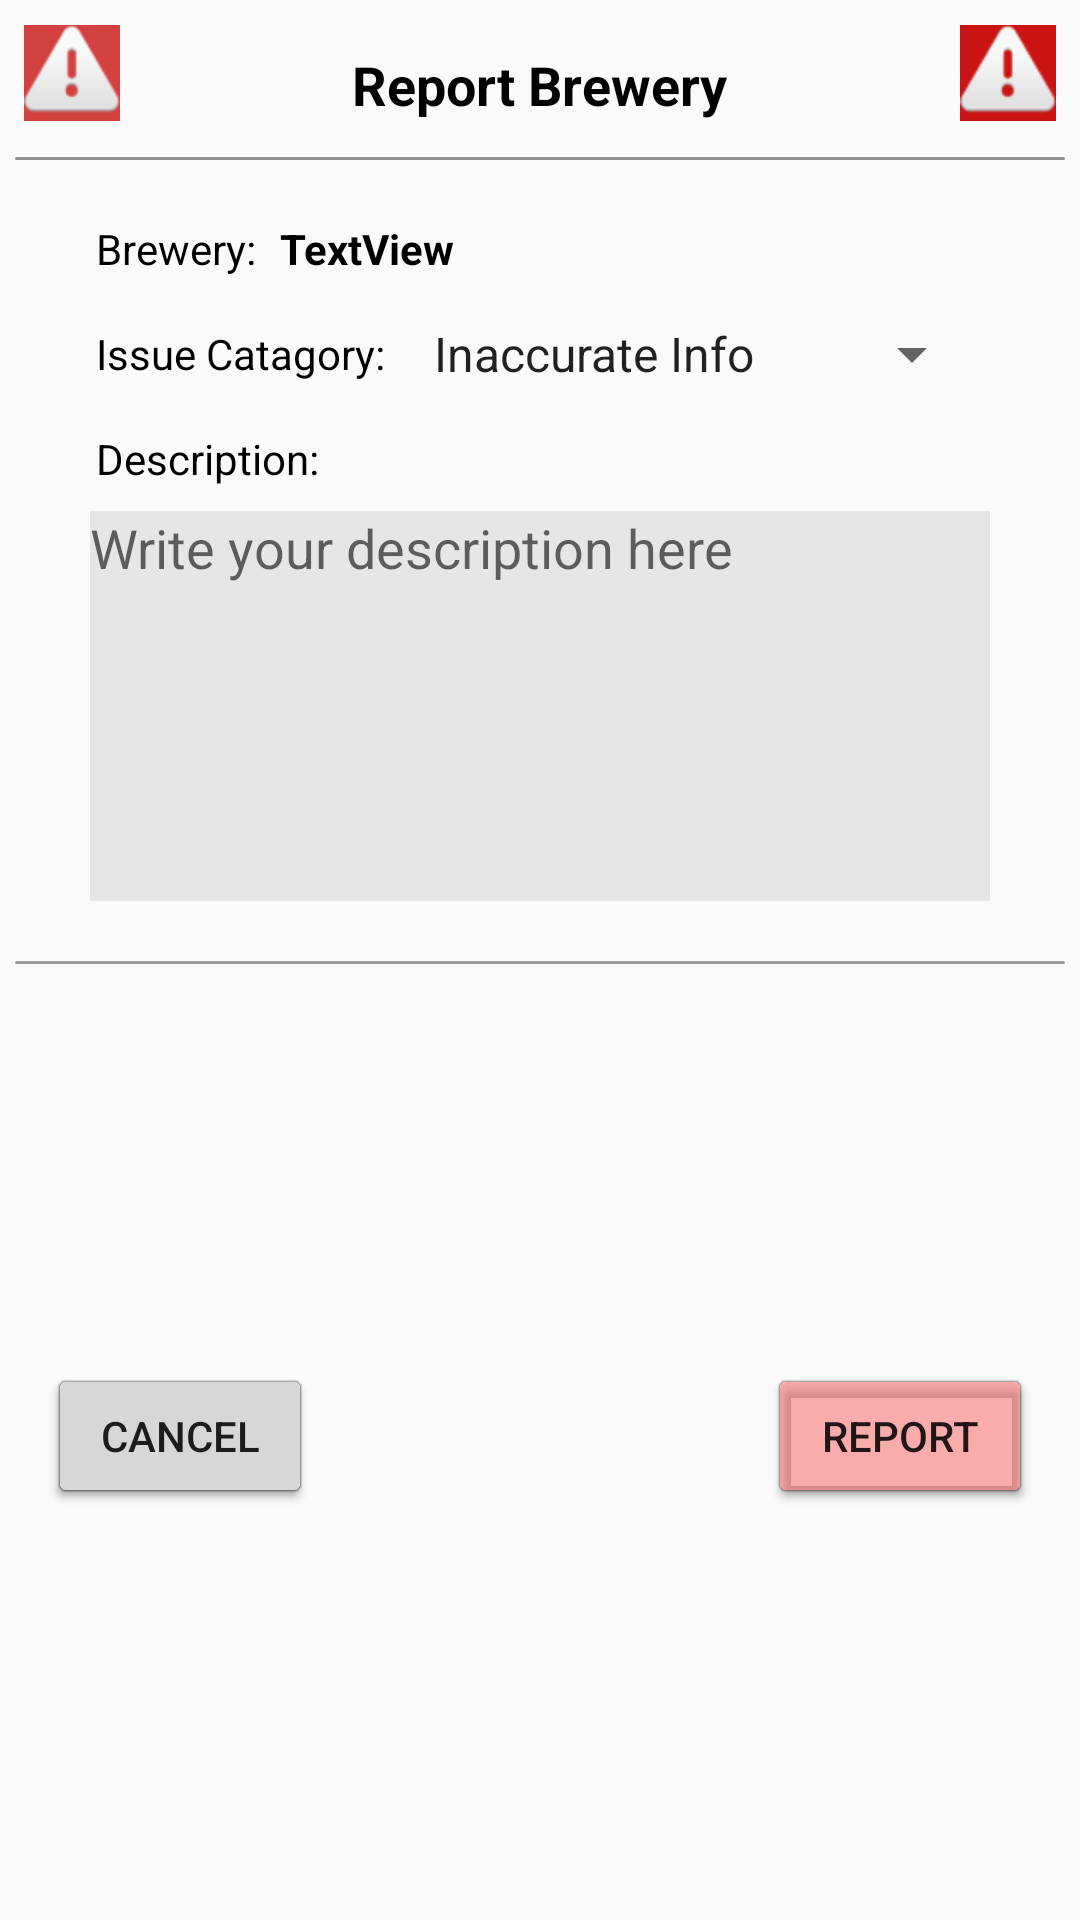

Icons on this 1080w x 1920h Android screen, each with its box as (x1, y1, x2, y2):
alert: (24, 25, 120, 121), (960, 25, 1056, 121)
